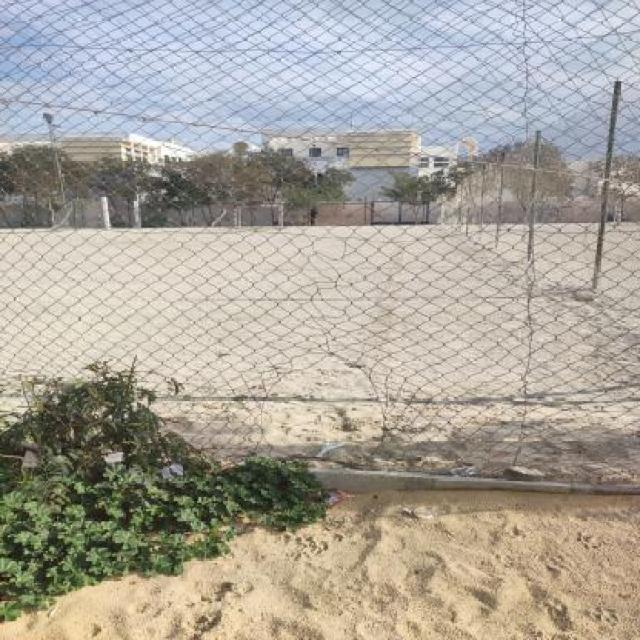fence line: (253, 355, 395, 472)
